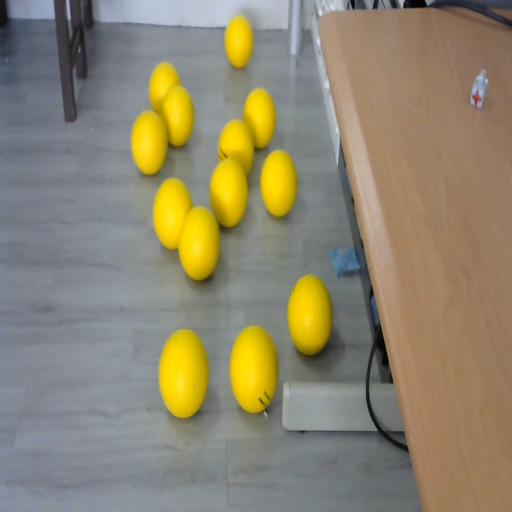FUEL: (157, 328, 209, 418), (228, 324, 279, 413), (286, 272, 332, 357), (177, 204, 221, 282), (208, 156, 249, 228), (260, 148, 298, 218), (130, 110, 168, 174), (160, 83, 196, 147), (244, 88, 276, 149), (224, 14, 254, 68)
